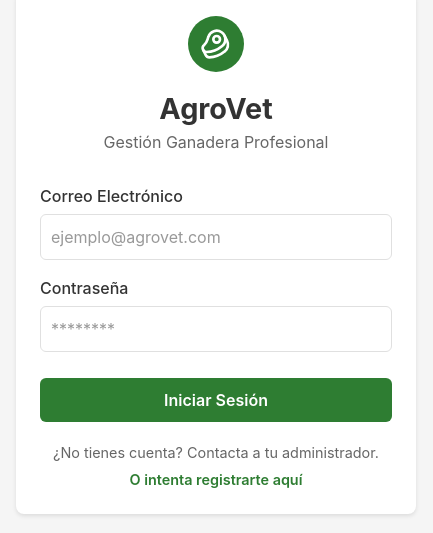
Test: <LogIn /> — Mock + Happy Path + Error Handling › deshabilita el botón y muestra "Iniciando sesión..." durante la carga (estado)
Type "test@vet.com" into the field labelled "Correo Electrónico" at (216, 237), box 40,214 -> 392,260
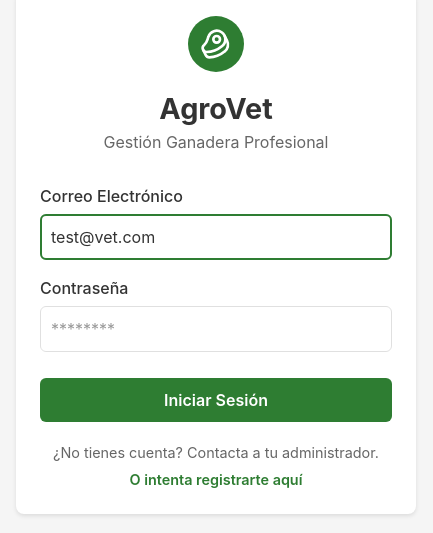
Type "pass1234" into the password field labelled "Contraseña" at (216, 329), box 40,306 -> 392,352
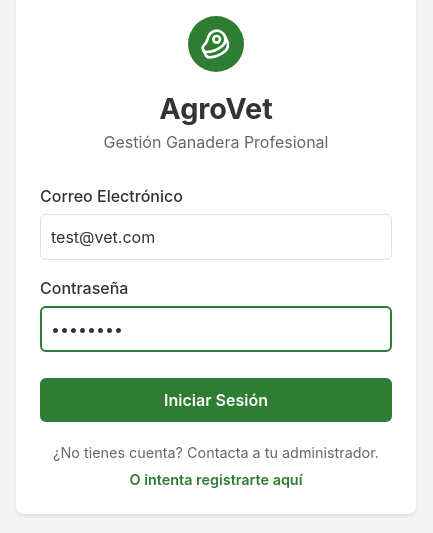
Submit the form from the button "Iniciar Sesión", box 40,378 -> 392,422
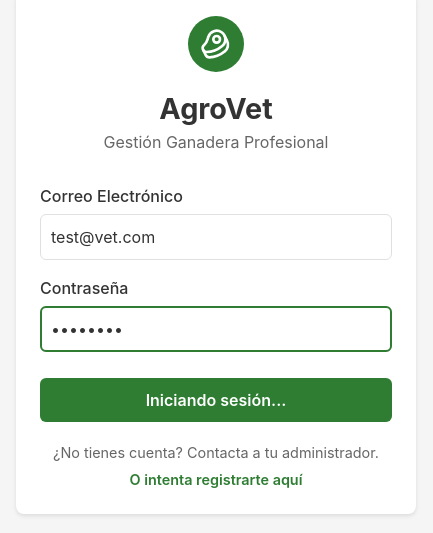
Check: the button "Iniciando sesión..." is disabled, box 40,378 -> 392,422
